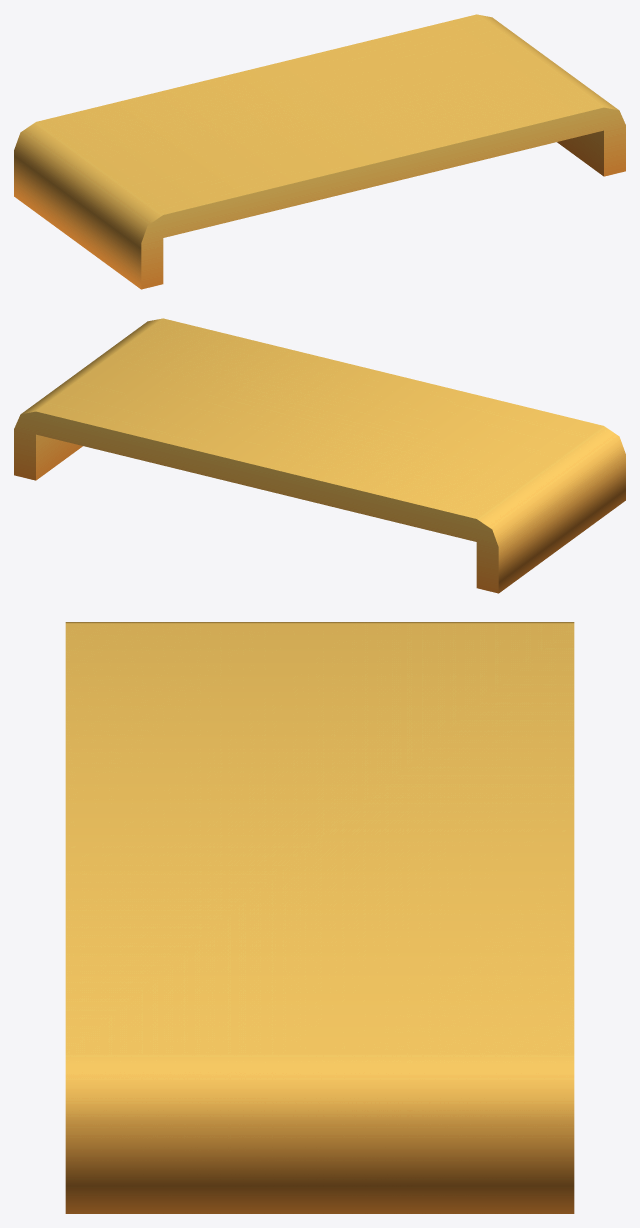
File: bed-double-cover.glb
The picture shows the model from 3 angles, top to bottom: view 1: azimuth 30°, elevation 25°; view 2: azimuth 150°, elevation 25°; view 3: azimuth 270°, elevation 25°; orthographic projection. The views are drawn at different scales.
Visible parts, largest first — view 1: bed-double-cover; view 2: bed-double-cover; view 3: bed-double-cover.
Part boxes in pixels (x1,y1,x2,y2): bed-double-cover: (14,14,625,289); bed-double-cover: (14,318,625,593); bed-double-cover: (65,622,574,1213).
Bounding box in the file's own units: 1.1 × 0.15 × 0.5.
Materials: 1 (1 with a texture image).
